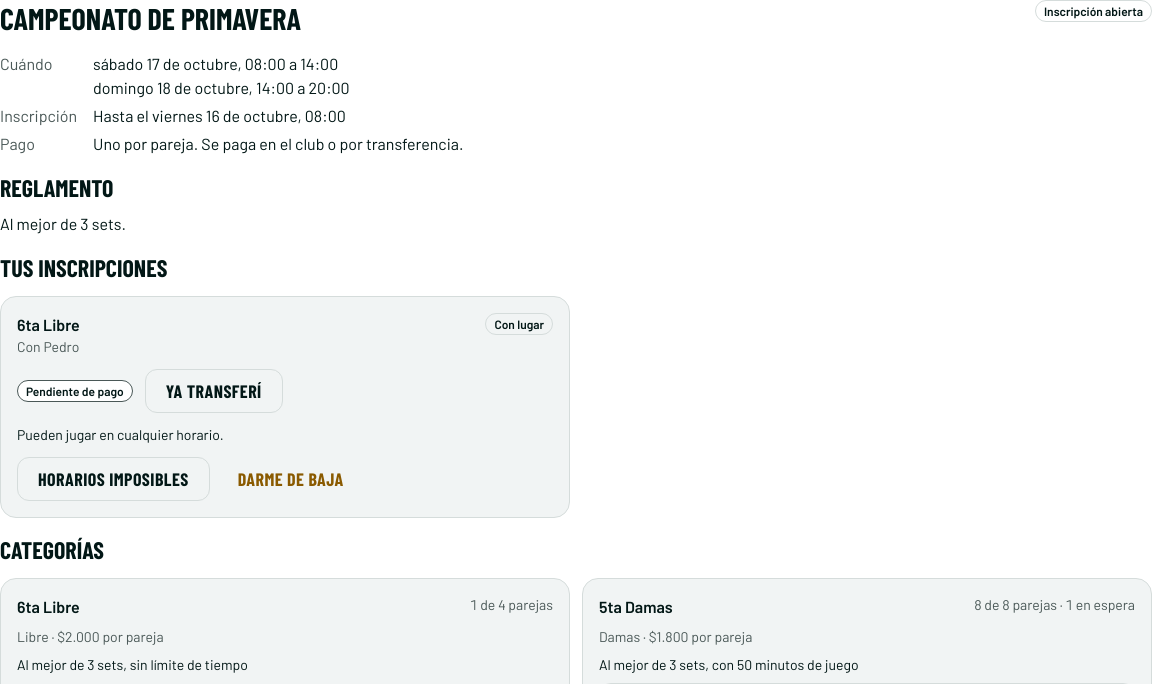
Test case: ChampionshipBoard › opens the hours and the transfer
Click the button "Horarios imposibles" at [113, 479], box [17,457,210,501]
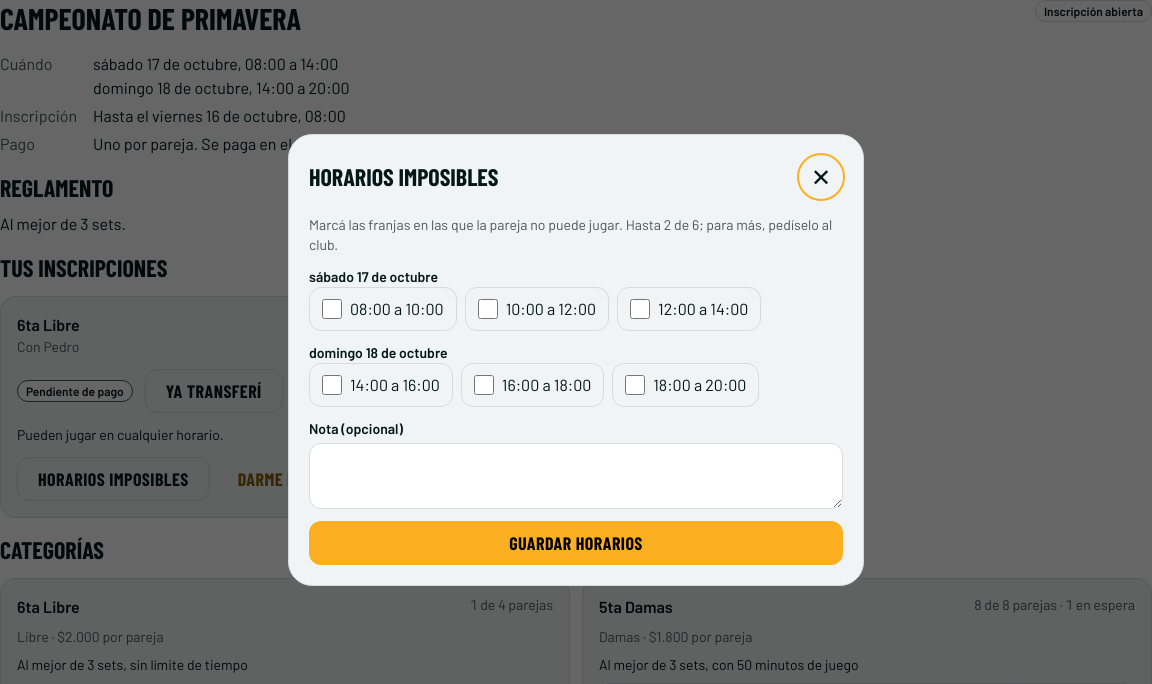
Now the dialog "Horarios imposibles" shows "Hasta 2 de 6", box [309,216,832,253]
Click the button named "Cerrar" at [821, 177], box [799,155,843,199]
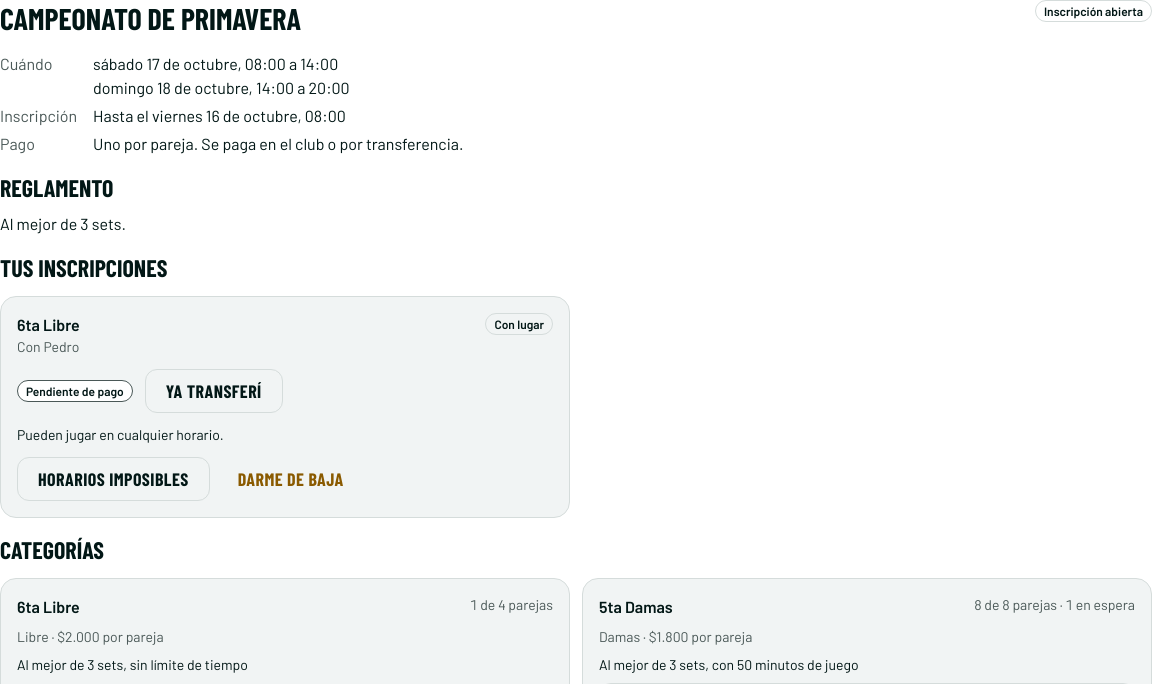
Click the button "Ya transferí" at [214, 391], box [145,369,283,413]
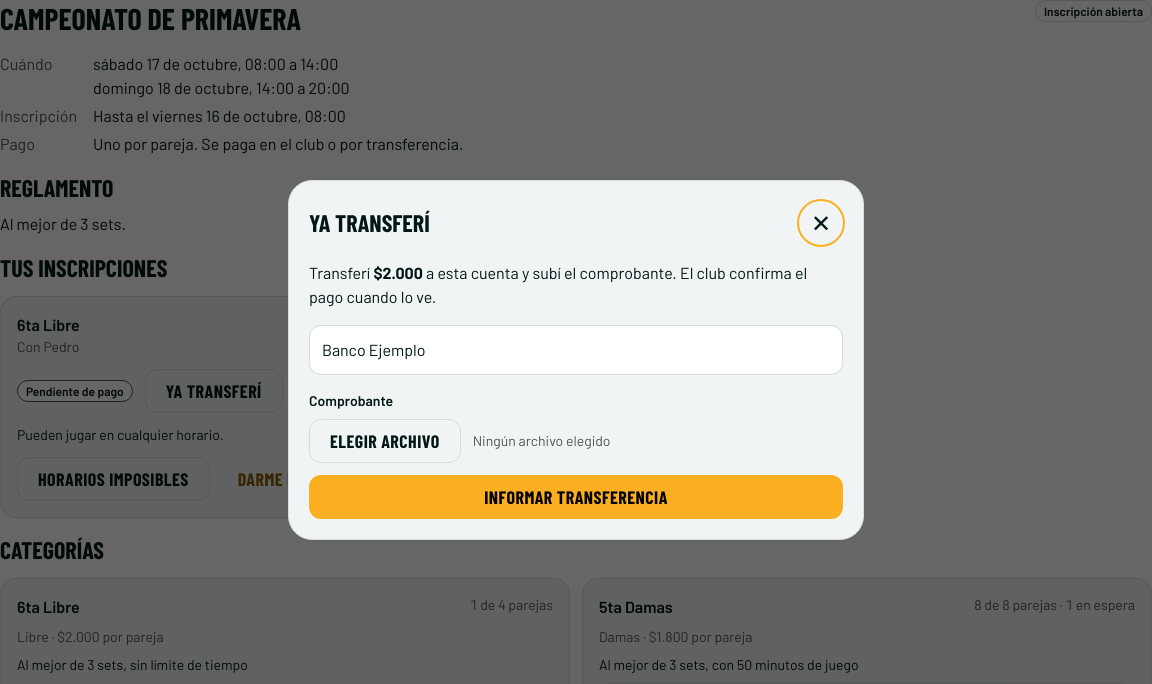
Now the dialog "Ya transferí" shows "$2.000", box [373,263,423,282]
